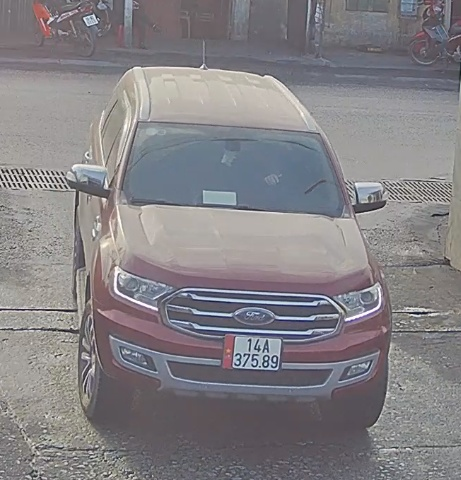vehicle plate: (216, 326, 286, 377)
